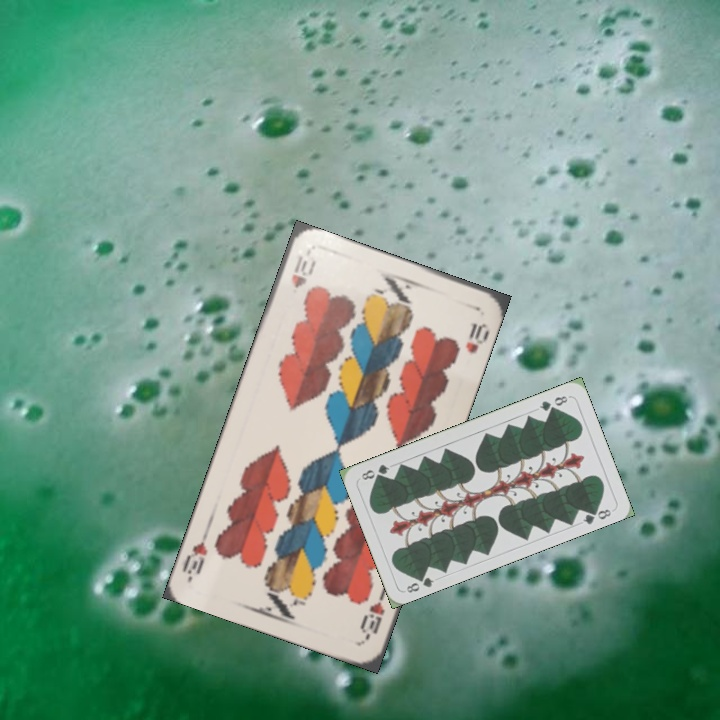G8: (402, 570, 437, 596), (535, 392, 572, 414)
H10: (356, 585, 388, 642), (287, 251, 318, 291)
